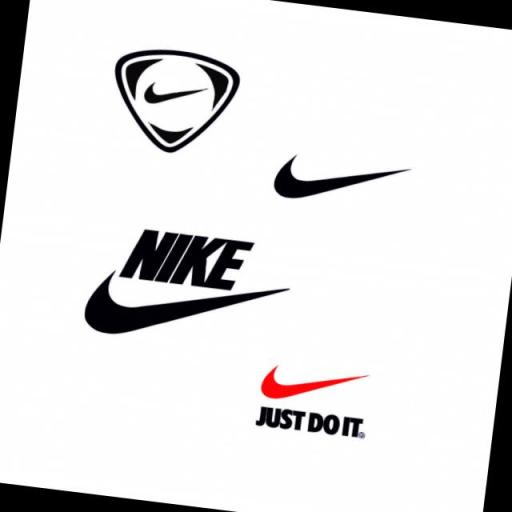Nike: (116, 226, 256, 296), (270, 148, 412, 213)
